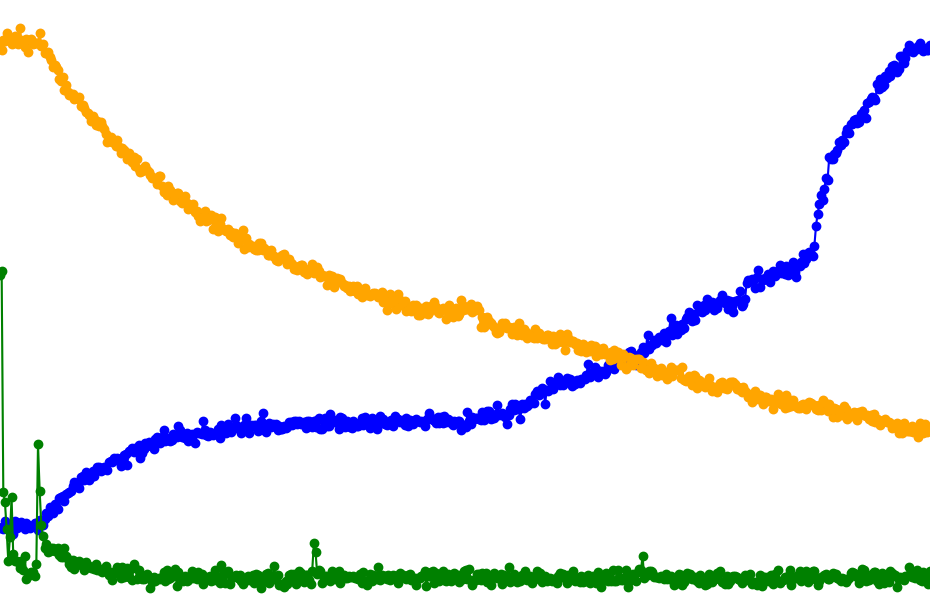CO2 Problem: (79, 0, 198, 616)
Condensation (CO2): (515, 0, 753, 616), (198, 0, 317, 616)
High CO2: (753, 0, 930, 616), (832, 0, 930, 616), (713, 0, 753, 616)
Normal: (356, 0, 753, 616), (198, 0, 515, 616), (515, 0, 832, 616), (198, 0, 475, 616), (79, 0, 317, 616), (515, 0, 753, 616), (0, 0, 198, 616), (753, 0, 930, 616), (79, 0, 198, 616), (832, 0, 930, 616), (0, 0, 79, 616), (753, 0, 832, 616)
